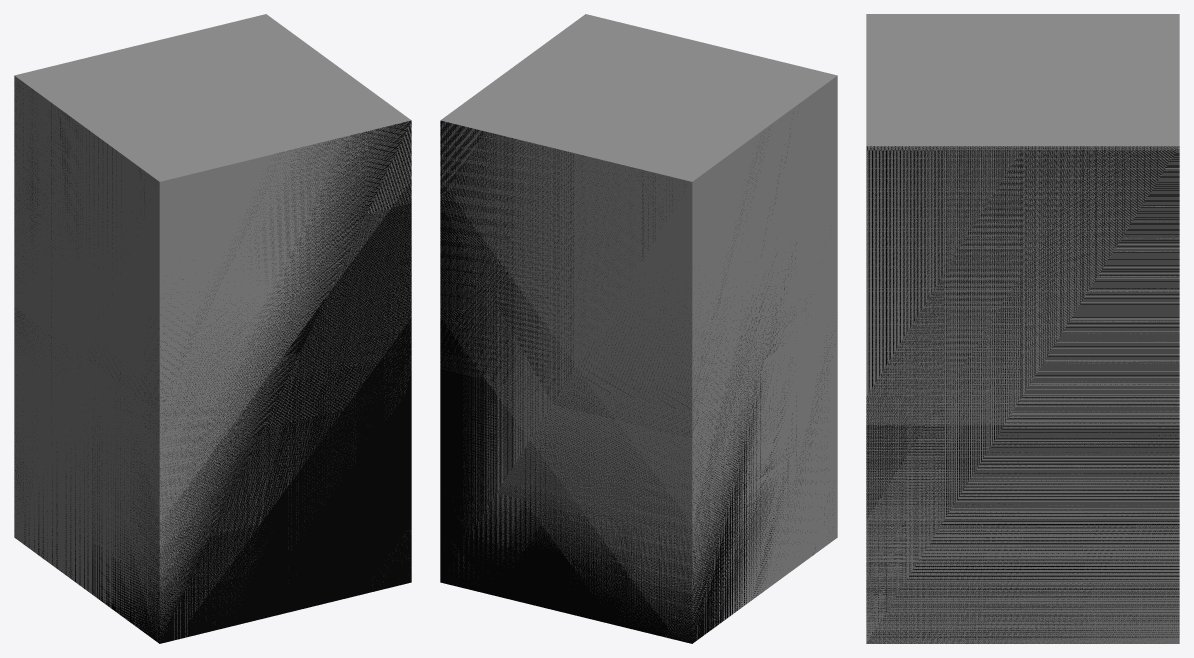
Rendered from bottle_03.FBX.
3 views of the same model, side by side, from view 1: azimuth 30°, elevation 25°; view 2: azimuth 150°, elevation 25°; view 3: azimuth 270°, elevation 25° (orthographic). The views are drawn at different scales.
Parts seen in each view (by area): view 1: bounds, colbox-1; view 2: bounds, colbox-1; view 3: bounds, colbox-1.
Part boxes in pixels (x1,y1,x2,y2): bounds: (14, 14, 411, 640); colbox-1: (14, 82, 411, 643); bounds: (440, 14, 837, 639); colbox-1: (440, 121, 831, 643); bounds: (866, 14, 1179, 643); colbox-1: (866, 146, 1179, 643).
Size of the model in its own units: 19.12 by 33.49 by 19.11.
